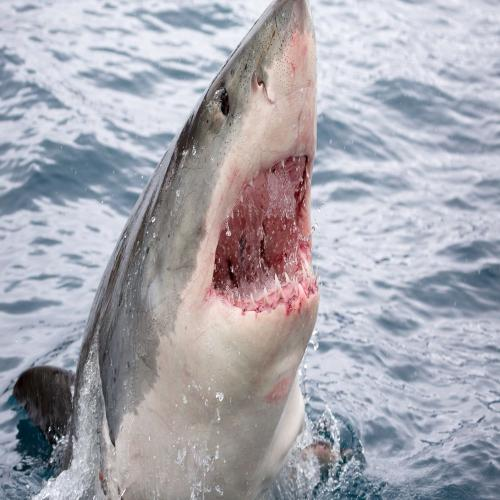shark-endangered: (56, 0, 326, 500)
